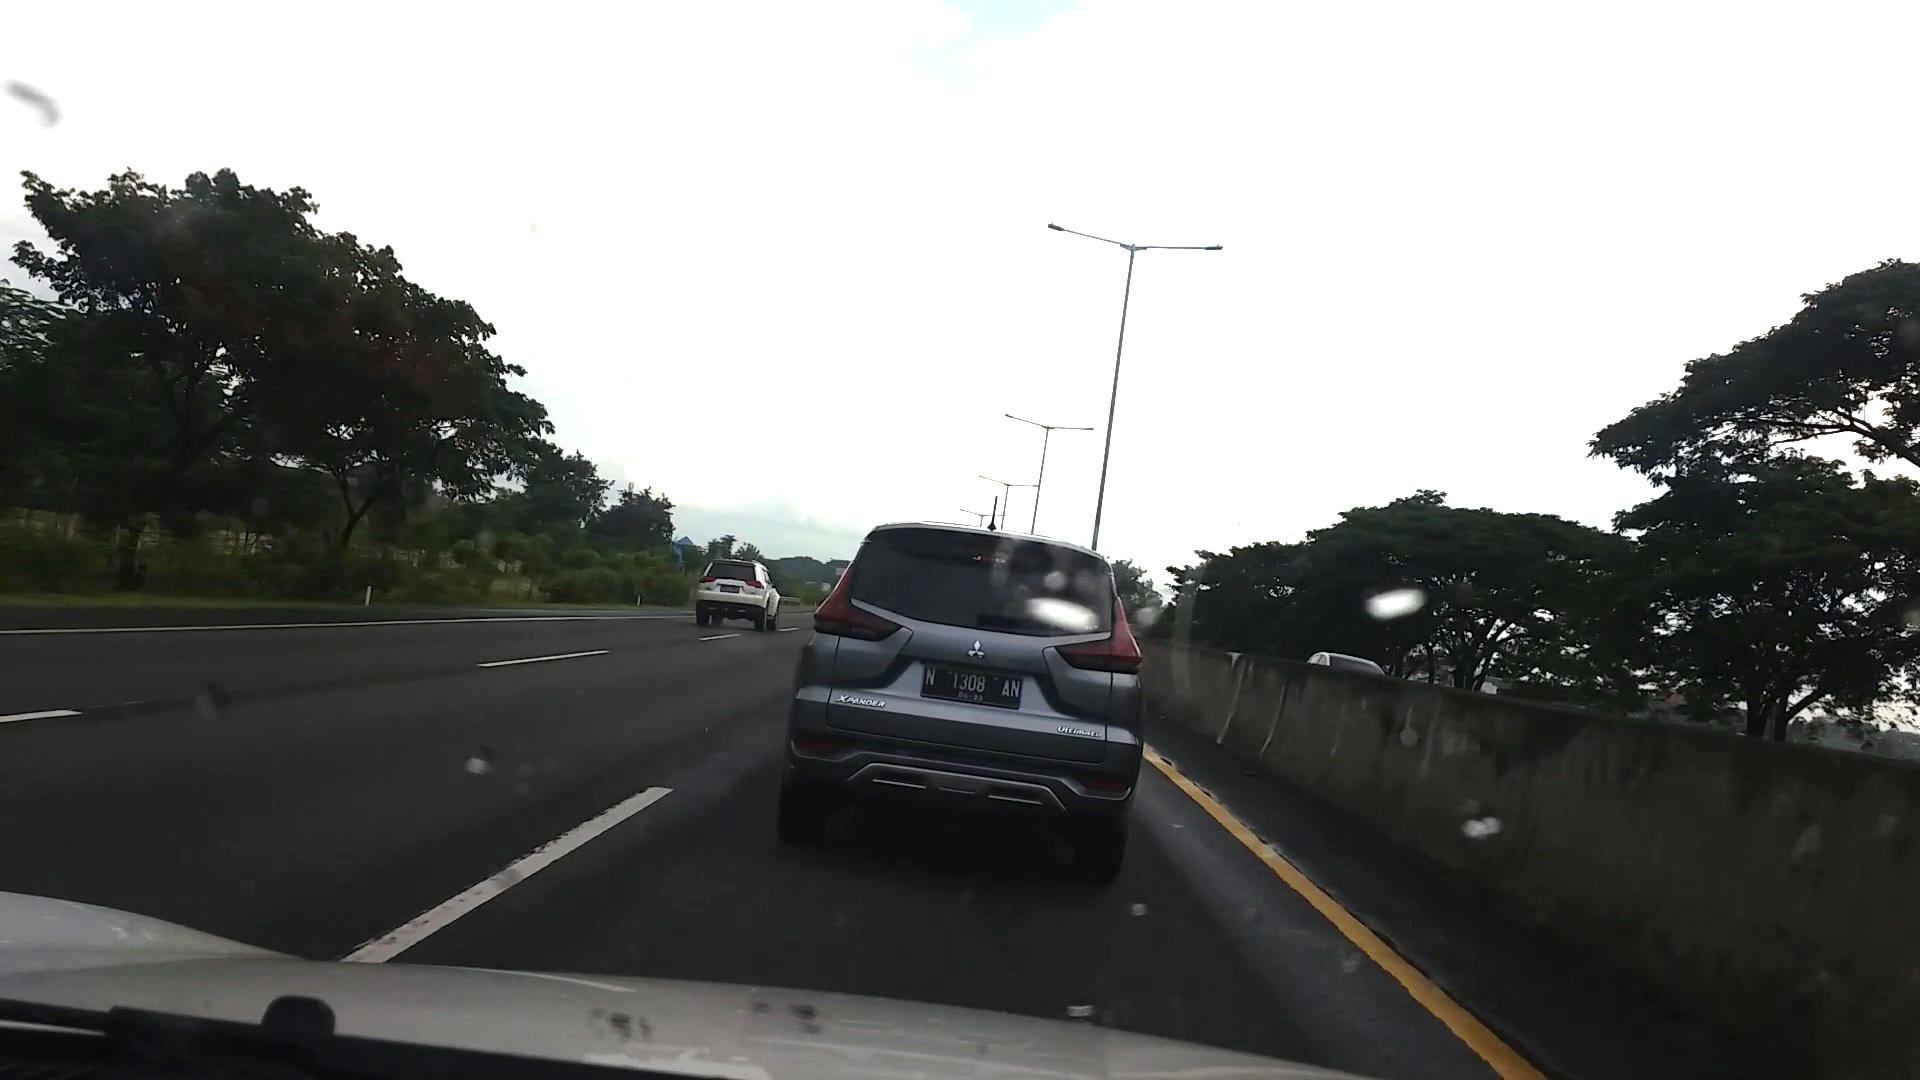plate_positive: (924, 669, 1023, 705)
